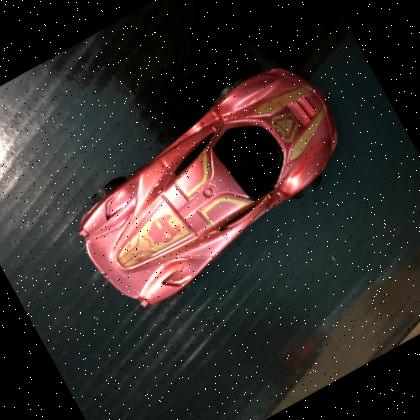Car: (44, 41, 380, 329)
